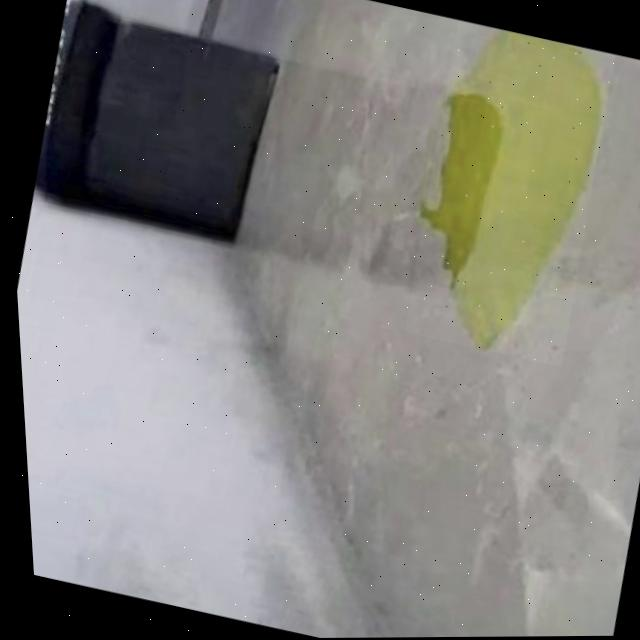spillage: (421, 31, 603, 351)
